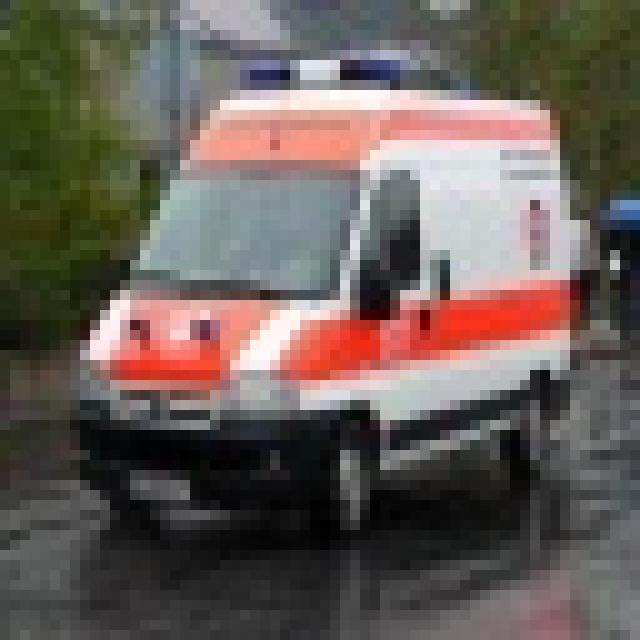Ambulance: (70, 50, 600, 540)
